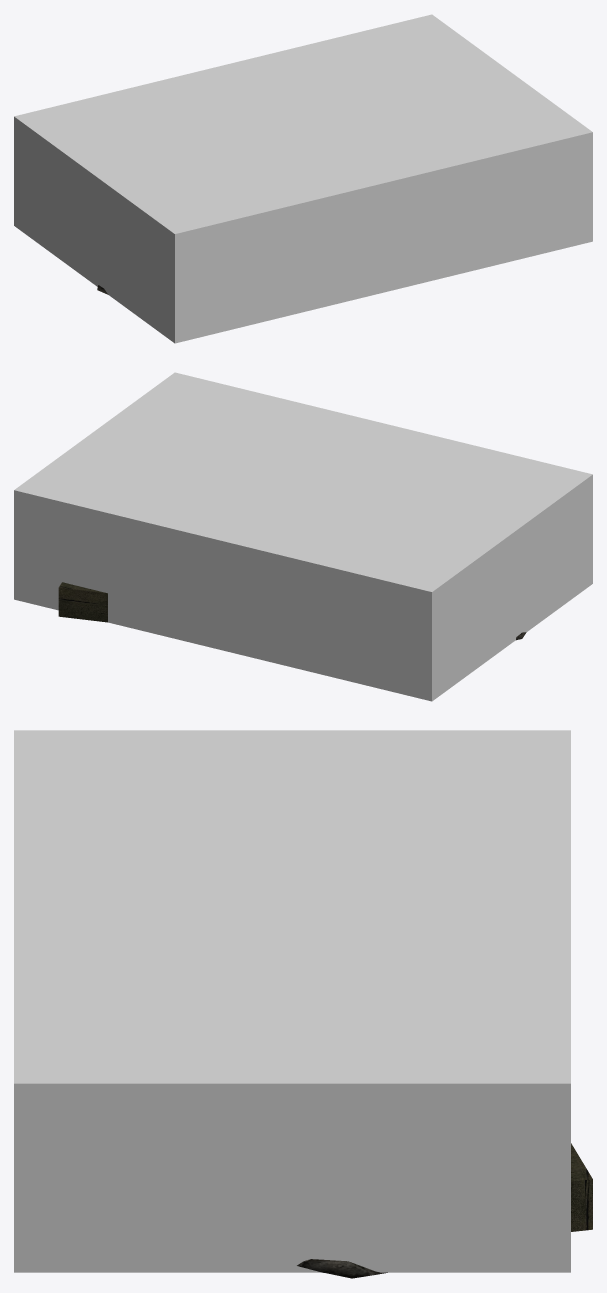
The model's file is rubble_cache_opened.glb.
3 views of the same model, one above another, from view 1: azimuth 30°, elevation 25°; view 2: azimuth 150°, elevation 25°; view 3: azimuth 270°, elevation 25° (orthographic). The views are drawn at different scales.
Parts seen in each view (by area): view 1: col_click; view 2: col_click, rubble_cache_opened; view 3: col_click, rubble_cache_opened.
Part boxes in pixels (<box>): col_click: <box>14,14,592,343</box>; col_click: <box>14,372,592,701</box>; rubble_cache_opened: <box>58,582,526,640</box>; col_click: <box>14,730,570,1272</box>; rubble_cache_opened: <box>297,1143,592,1278</box>.
Bounding box in the file's own units: 2.44 × 0.6516 × 1.66.
Materials: 6 (5 with a texture image).
